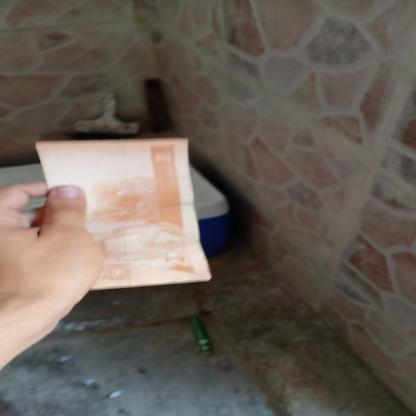twenty-back-vef: (34, 136, 211, 290)
